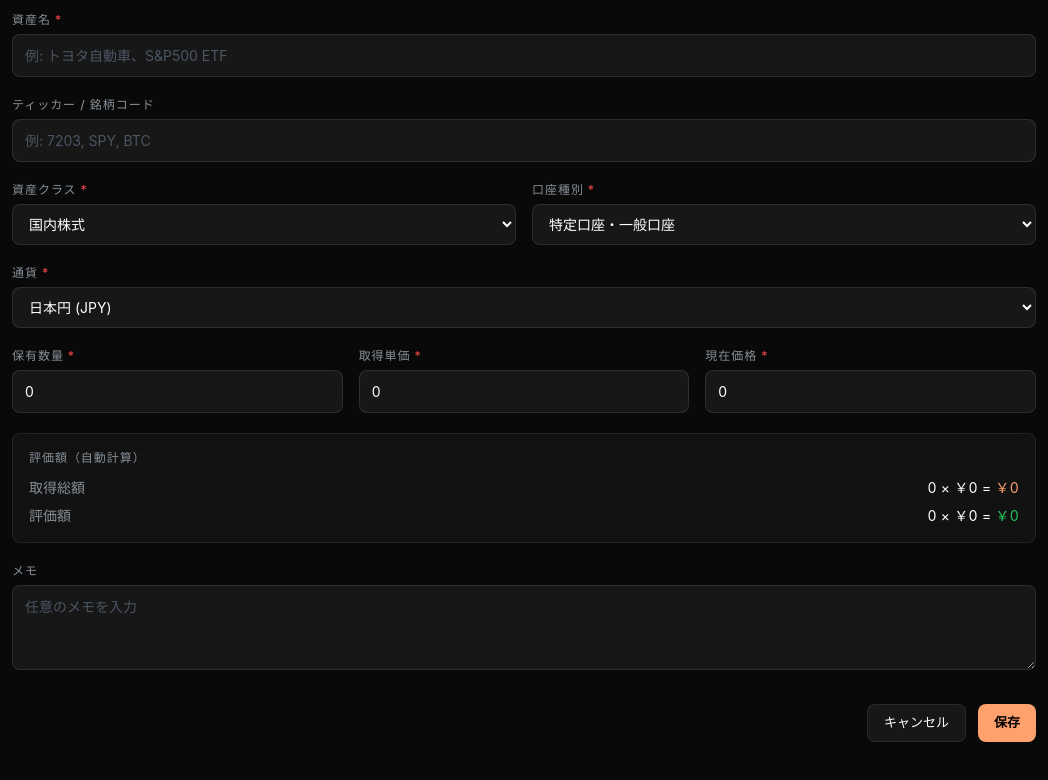
AssetForm validation › shows required error when name is empty and form is submitted
// Clear name field and submit
Clear the field labelled "資産名*" at (524, 56), box [12,34,1036,77]
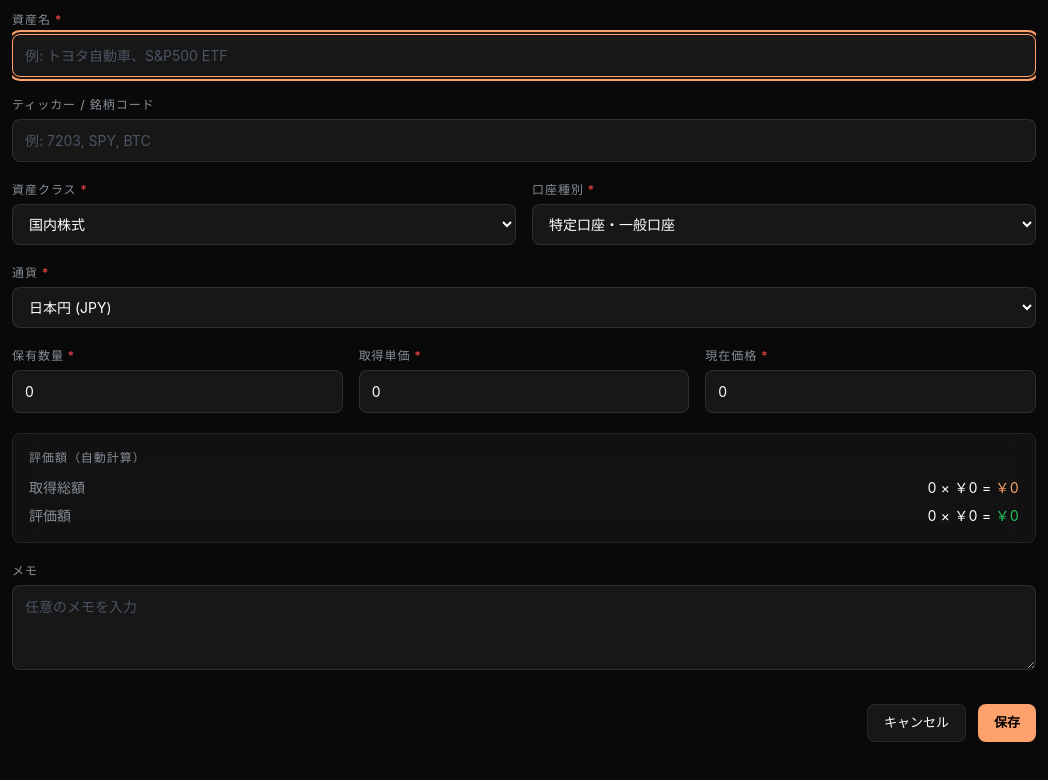
Click the button "保存" at (1007, 723), box [978,704,1036,742]
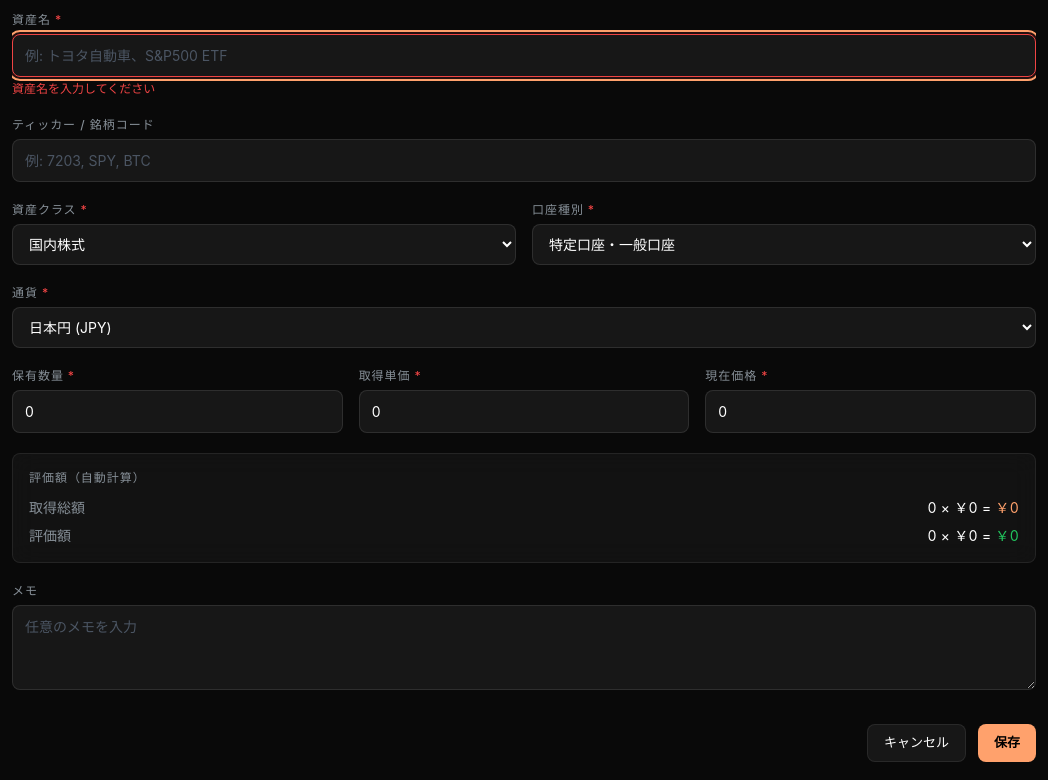
Expected: the message "資産名を入力してください" is shown, [12,81,155,96]
